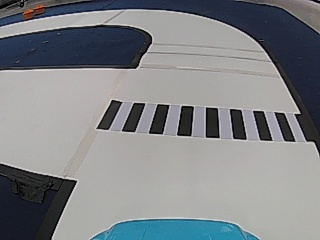CrossWalk: (96, 100, 305, 145)
